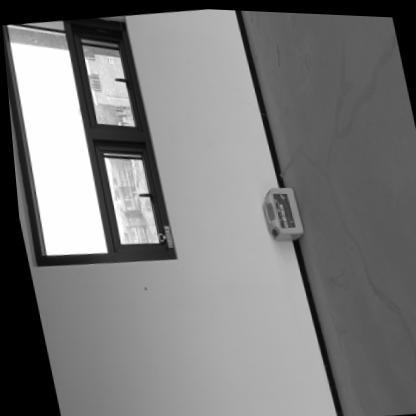DDL: (255, 180, 301, 240)
